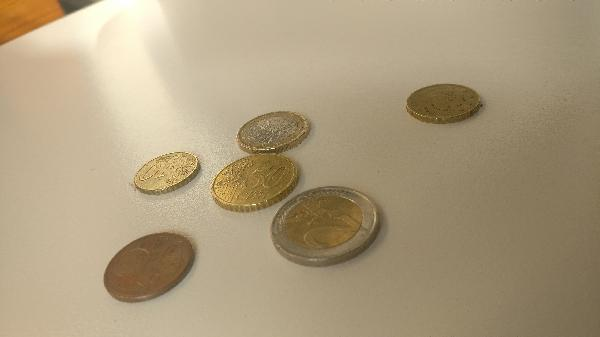Fifty Cent: (211, 154, 298, 213)
Five Cent: (102, 230, 193, 302)
One Euro: (236, 110, 314, 155)
Ten Cent: (131, 152, 202, 191)
Twenty Cent: (403, 82, 484, 125)
Two Euro: (270, 186, 384, 263)
